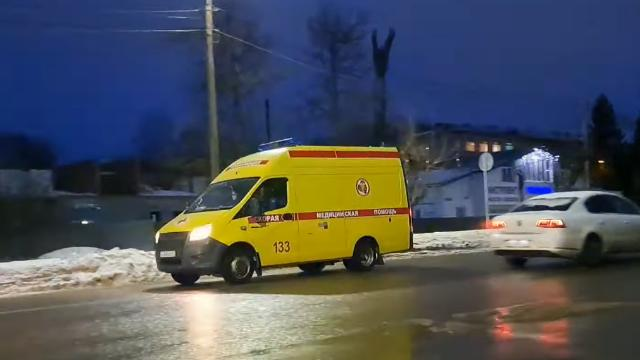intensive care unit: (155, 140, 416, 288)
non emergency car: (491, 193, 640, 268)
